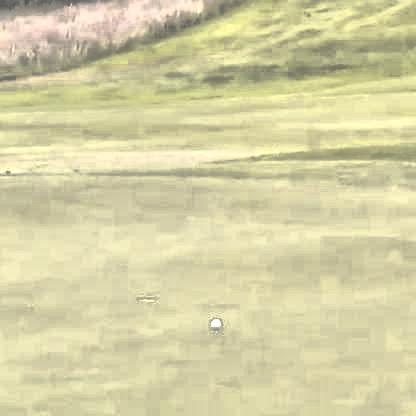golfball: (208, 315, 220, 329)
